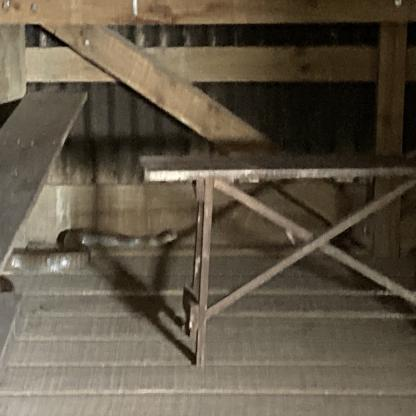Snake: (14, 221, 184, 278)
